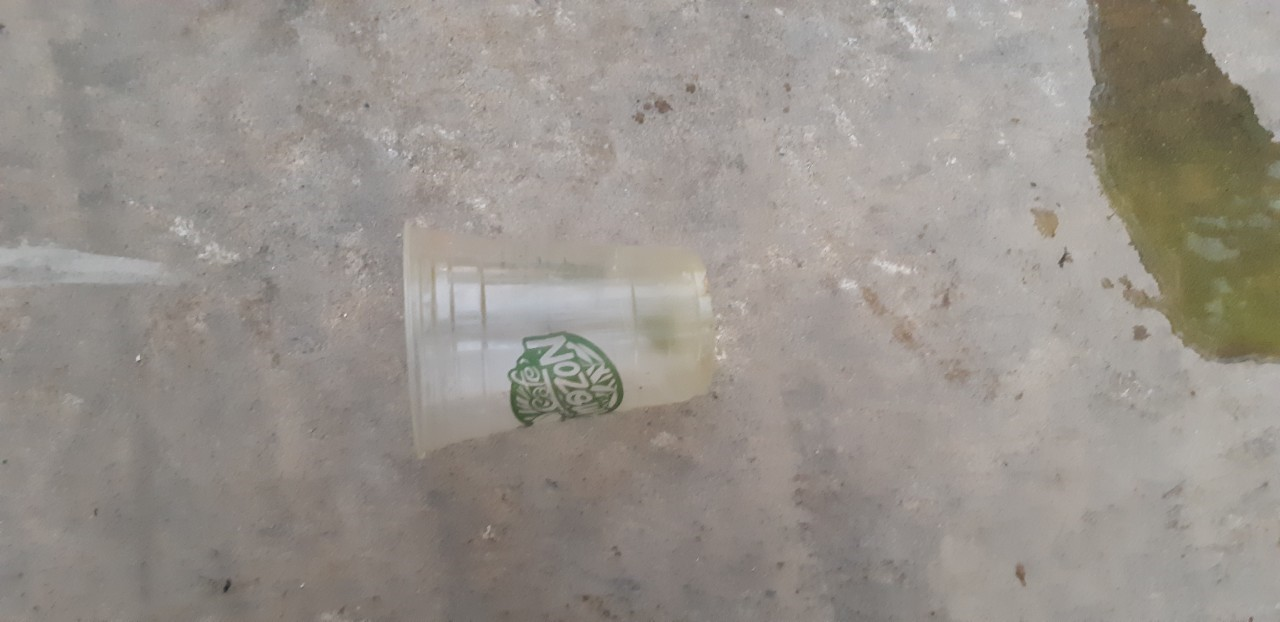PlasticCup: (394, 216, 727, 460)
